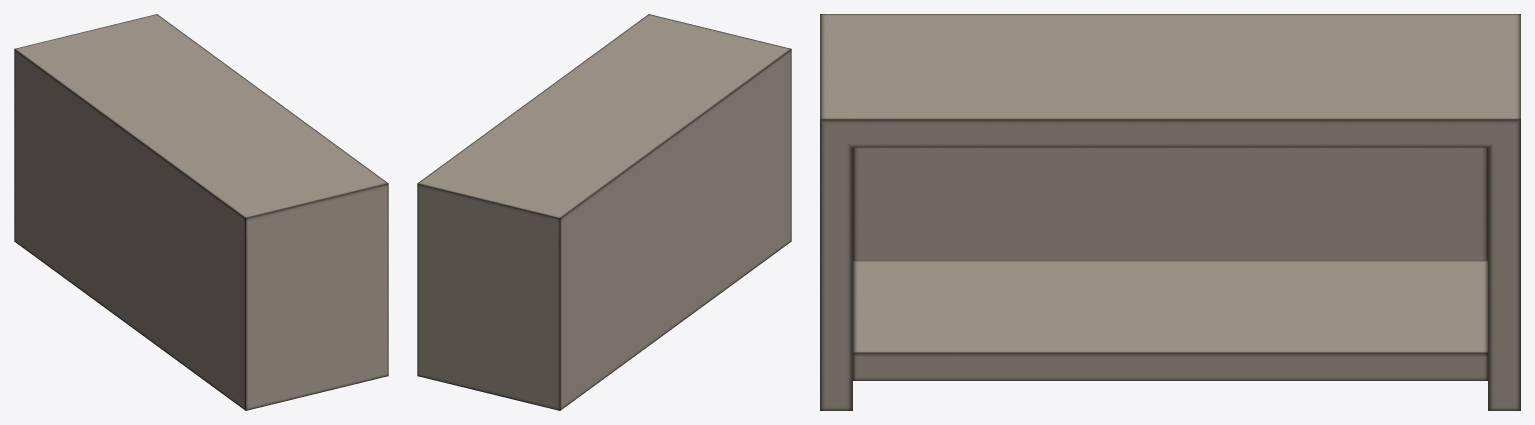
The model's file is shelf3.fbx.
The picture shows the model from 3 angles, left to right: view 1: azimuth 30°, elevation 25°; view 2: azimuth 150°, elevation 25°; view 3: azimuth 270°, elevation 25°; orthographic projection. The views are drawn at different scales.
Parts seen in each view (by area): view 1: polySurface373; view 2: polySurface373; view 3: polySurface373.
Boxes of the visible parts, left/top/right/bottom form: polySurface373: left=14, top=14, right=388, bottom=410; polySurface373: left=417, top=14, right=791, bottom=410; polySurface373: left=820, top=14, right=1520, bottom=410.
Bounding box in the file's own units: 0.4651 × 0.5987 × 1.31.
